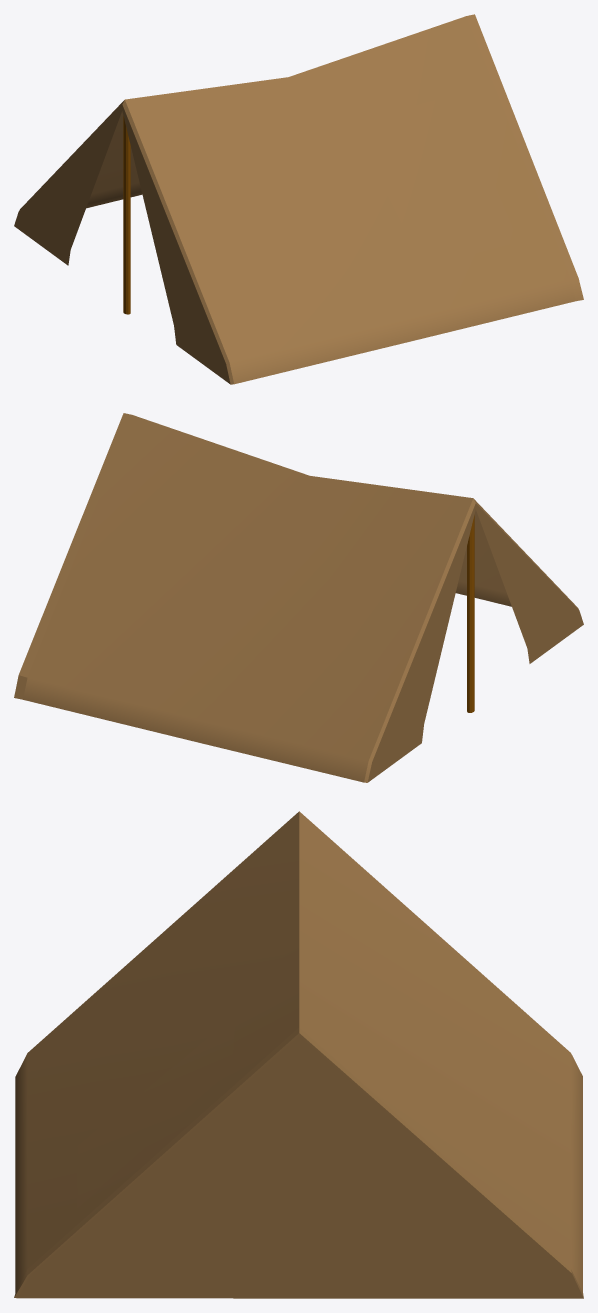
Rendered from TENT3.fbx.
The picture shows the model from 3 angles, top to bottom: view 1: azimuth 30°, elevation 25°; view 2: azimuth 150°, elevation 25°; view 3: azimuth 270°, elevation 25°; orthographic projection. The views are drawn at different scales.
Parts seen in each view (by area): view 1: pasted__pPlane3, pasted__pCylinder1; view 2: pasted__pPlane3, pasted__pCylinder1; view 3: pasted__pPlane3.
Boxes of the visible parts, x1=… form: pasted__pPlane3: x1=14, y1=14, x2=583, y2=384; pasted__pCylinder1: x1=123, y1=116, x2=130, y2=314; pasted__pPlane3: x1=14, y1=413, x2=583, y2=782; pasted__pCylinder1: x1=467, y1=515, x2=474, y2=712; pasted__pPlane3: x1=14, y1=811, x2=583, y2=1298.
Bounding box in the file's own units: 89.8 × 52.07 × 96.94.
